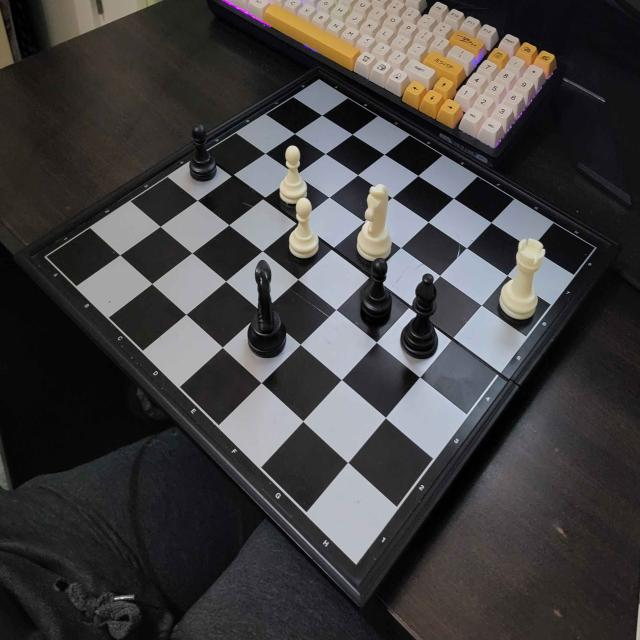black-bishop: (399, 272, 440, 364)
black-pawn: (360, 256, 394, 329), (187, 121, 218, 186)
black-rook: (244, 255, 288, 362)
chess-board: (39, 70, 613, 578)
white-knight: (356, 182, 394, 266)
white-pawn: (277, 141, 310, 209), (288, 197, 322, 260)
white-rook: (496, 235, 549, 322)
